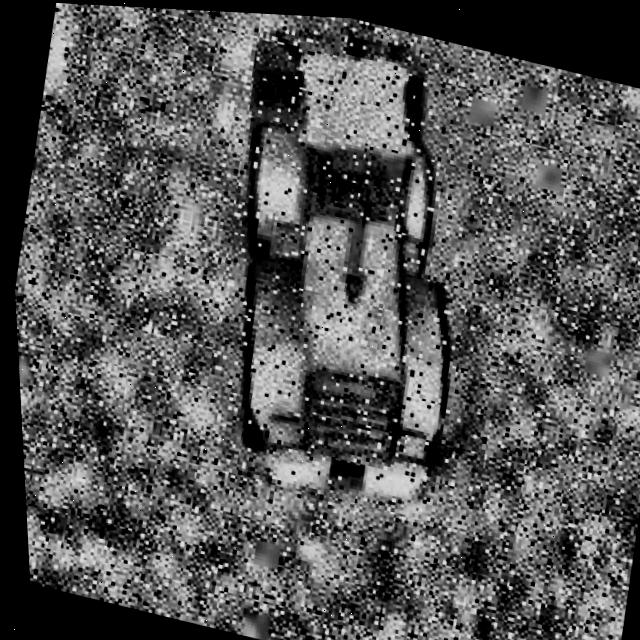buldozerpayloadergrader: (156, 6, 528, 534)
